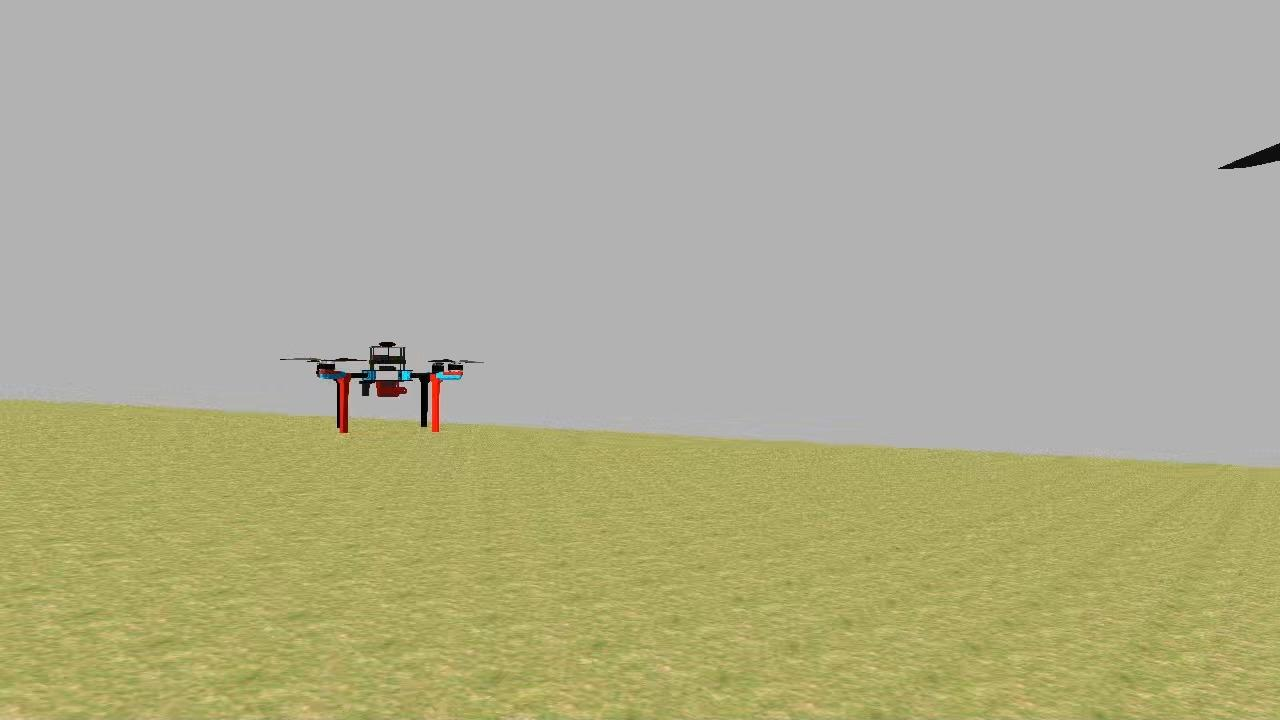UAV: (310, 336, 472, 434)
